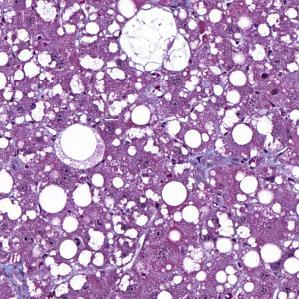fibrosis: (192, 152, 233, 186), (0, 259, 28, 294)
